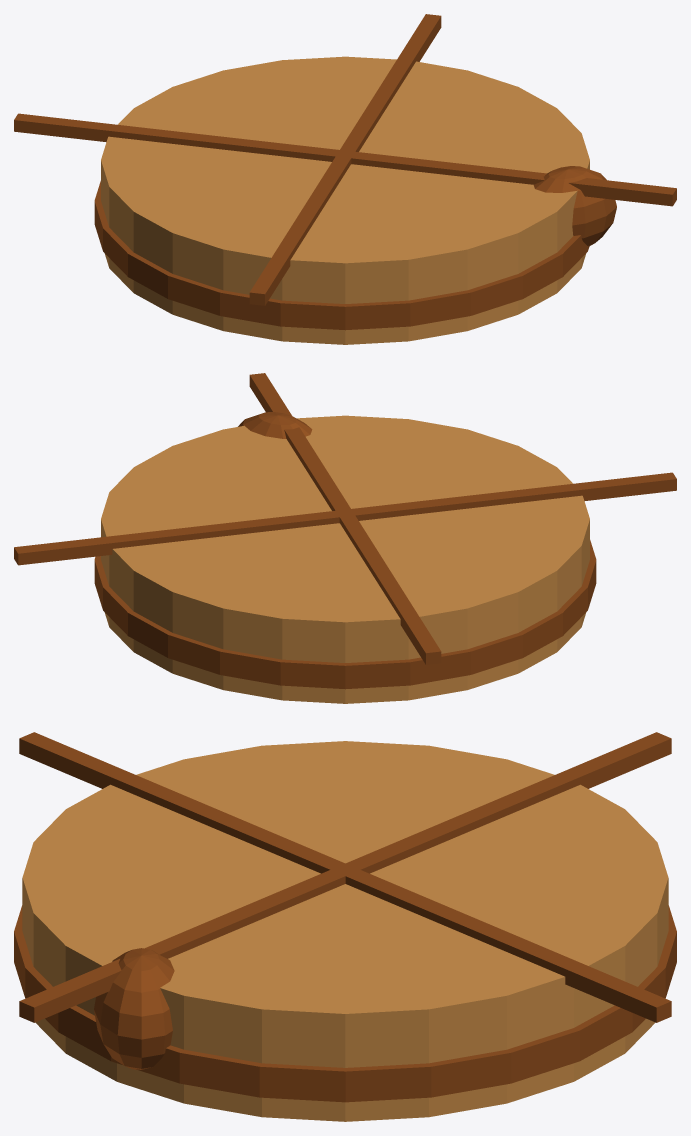
Rendered from charm-stroopwafel.glb.
3 views of the same model, one above another, from view 1: azimuth 30°, elevation 25°; view 2: azimuth 150°, elevation 25°; view 3: azimuth 270°, elevation 25° (orthographic). The views are drawn at different scales.
Parts seen in each view (by area): view 1: charm_stroopwafel; view 2: charm_stroopwafel; view 3: charm_stroopwafel.
Boxes of the visible parts, box(x1,y1,x2,y2) form: charm_stroopwafel: box(14, 14, 676, 344); charm_stroopwafel: box(14, 373, 676, 703); charm_stroopwafel: box(14, 732, 676, 1121).
Bounding box in the file's own units: 0.0078 × 0.0016 × 0.0078.
